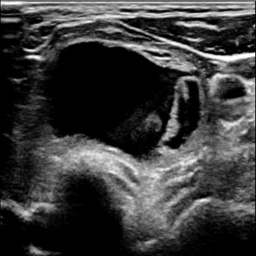mass: (41, 39, 202, 161)
